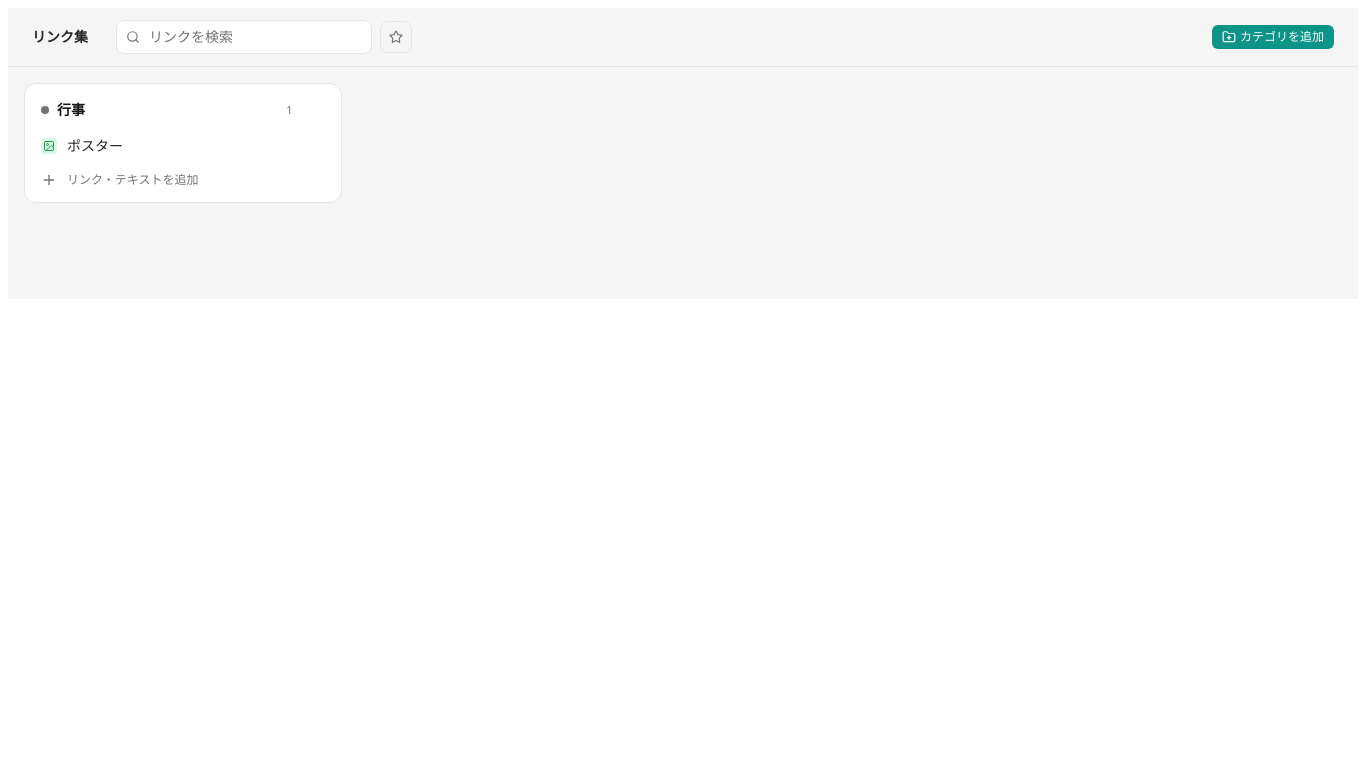
画像を部品の中で見る（viewImages） › 開いた画面でメモを書いて保存できる（リンクのメモと同じもの）
The image size is (1366, 768).
Click the link "ポスター" at (82, 146), box [41,136,123,155]
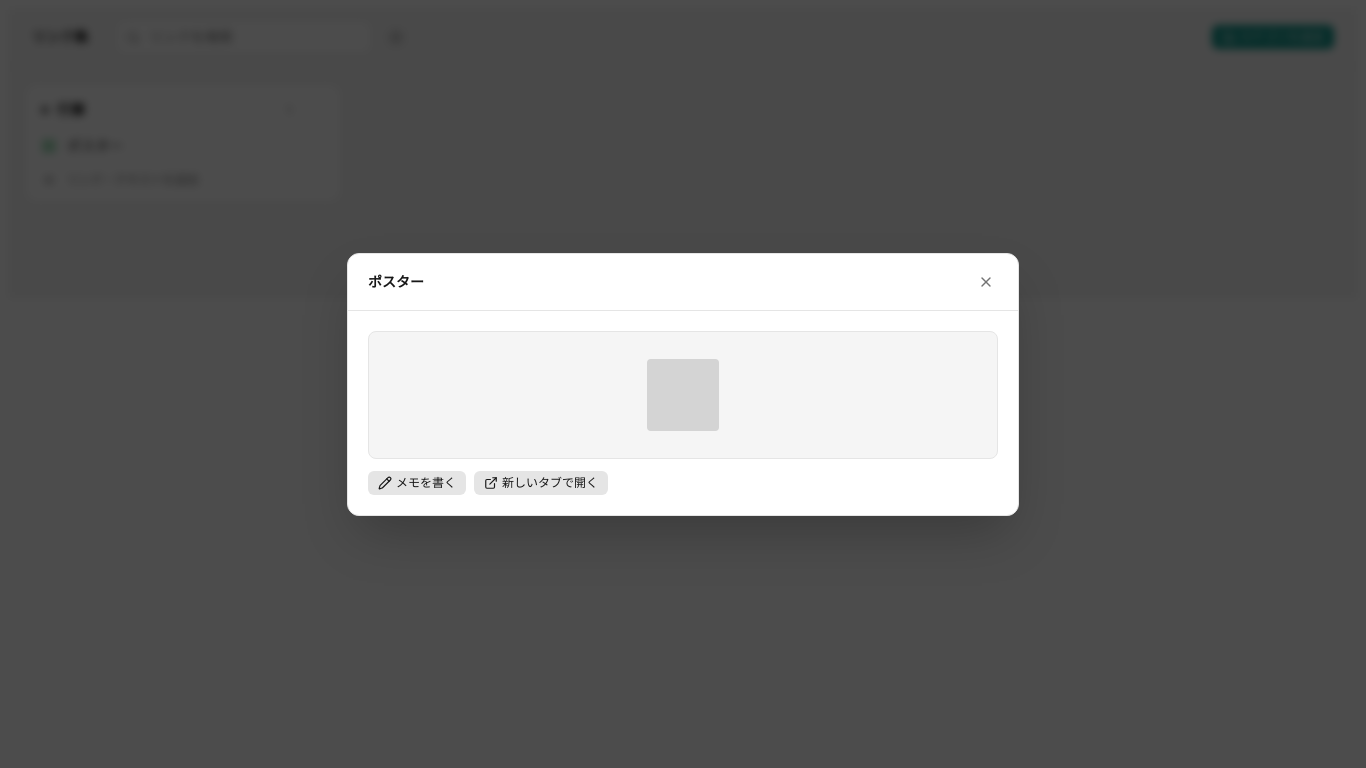
Click the button "メモを書く" at (417, 482), box [368,470,466,494]
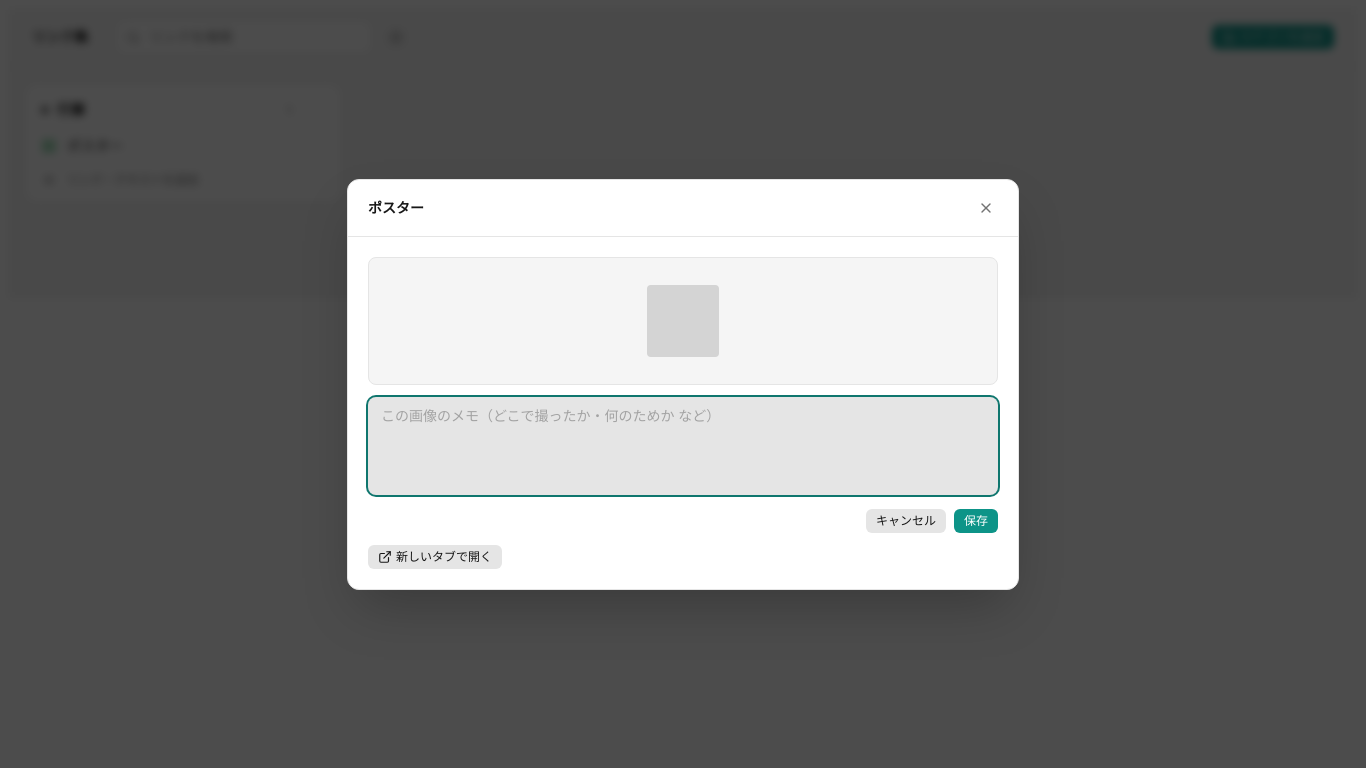
Type "  回覧板に入れる  " into the text box labelled "画像のメモ" at (683, 446), box [368,396,998,494]
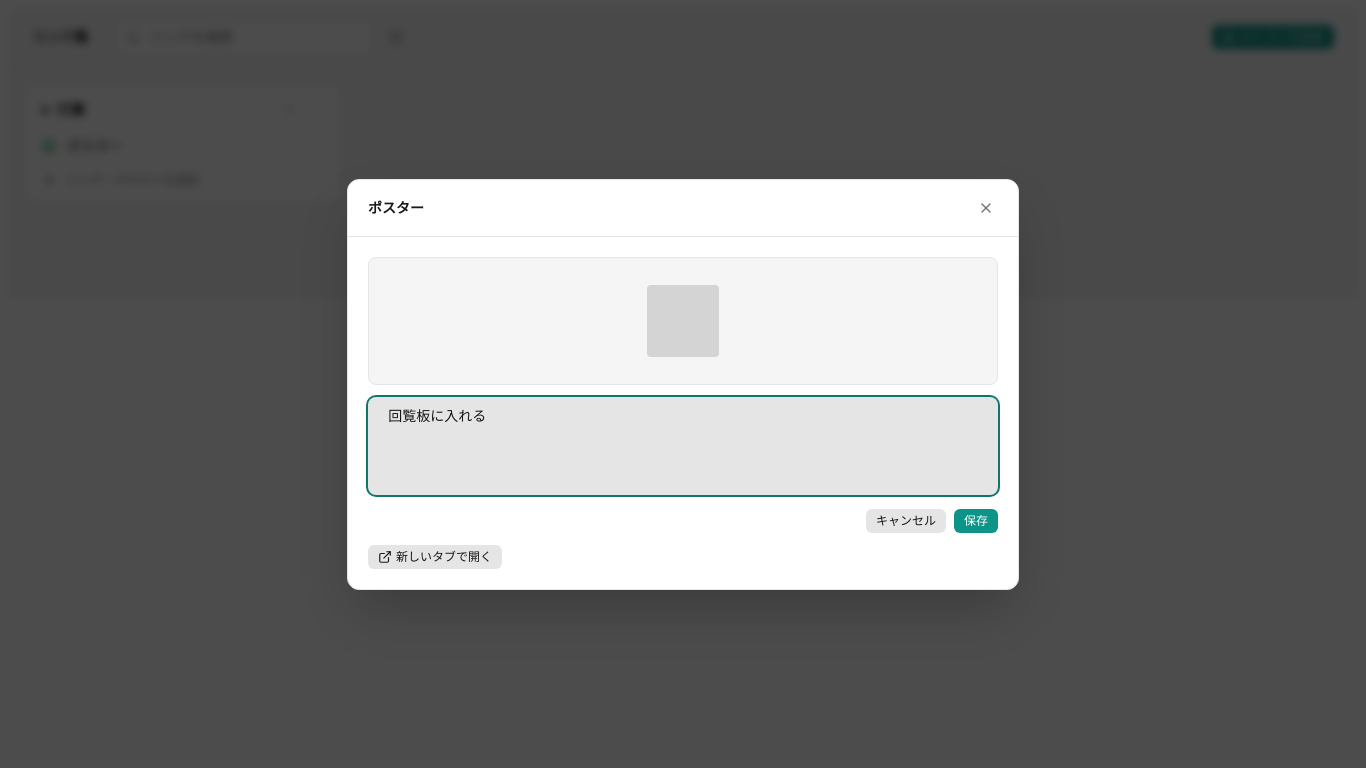
Click the button "保存" at (976, 520), box [954,508,998,532]
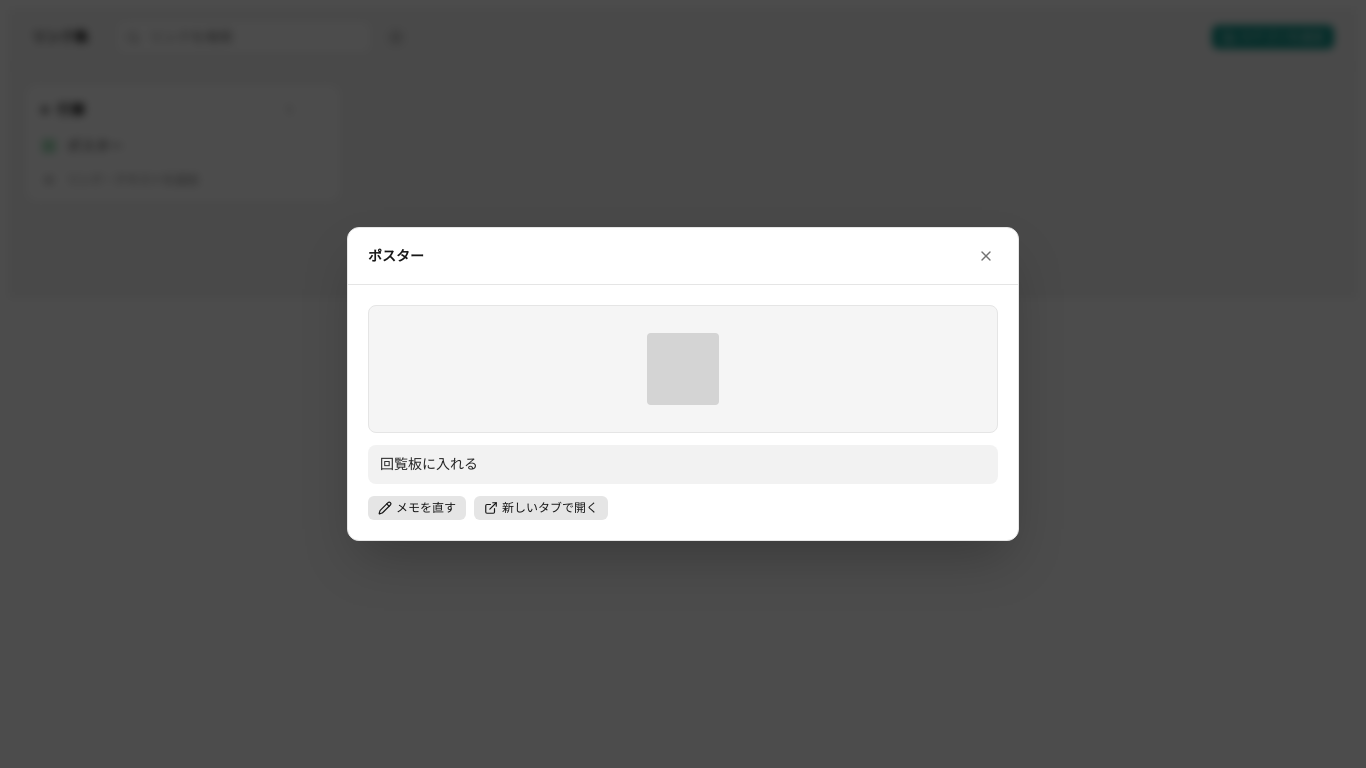
Expected: the text with test id "image-viewer-memo" reads "回覧板に入れる", [380,454,478,473]
Expected: the button "メモを直す" is shown, [368,496,466,520]
